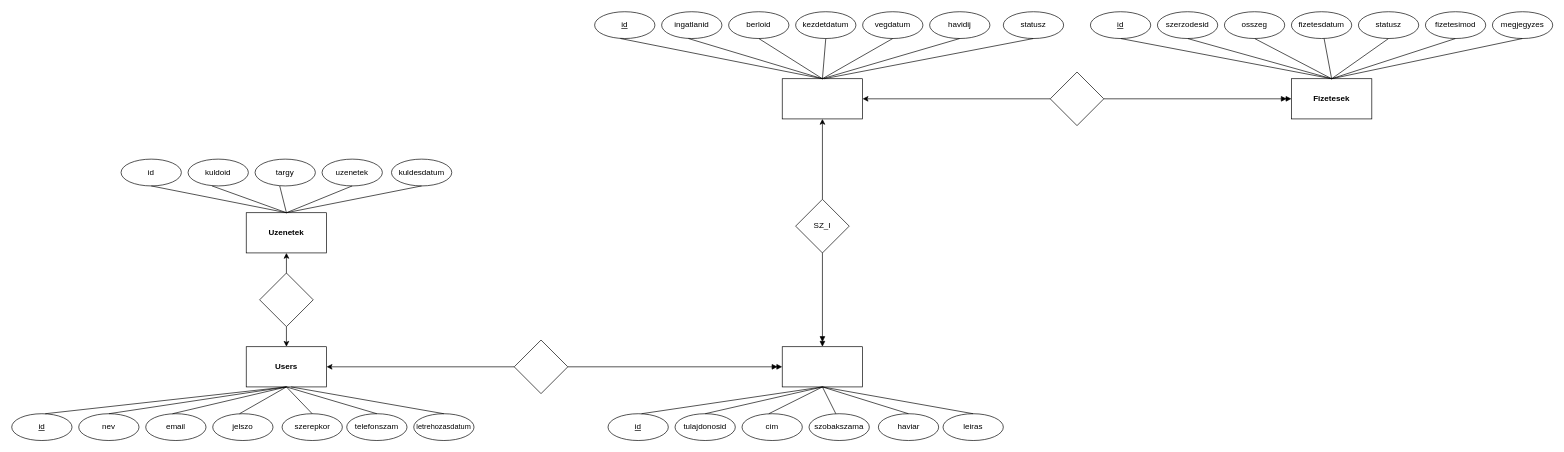
Image size: 1564x452. Some labels were removed from this diagram. The centre of each missing label's shape, as x and y in pixels:
B_U: [286,299]
Ingatlanok: [822,366]
SZ_F: [1077,98]
Szerzodesek: [822,98]
U_I: [541,366]
